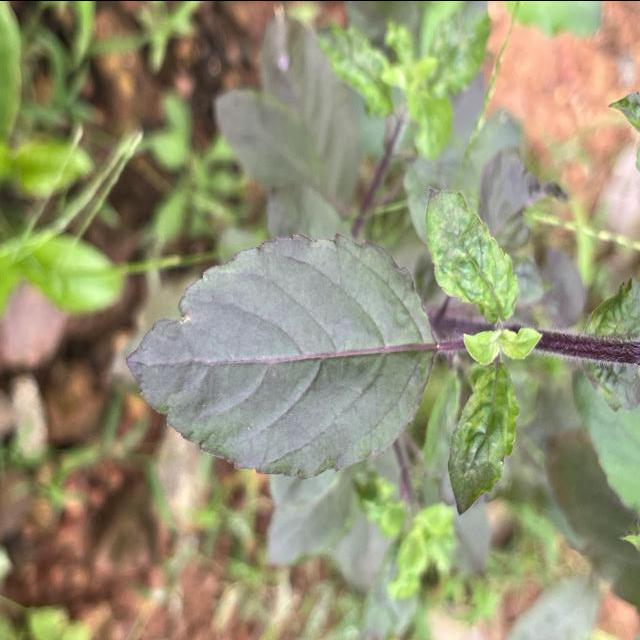Ocimum tenuiflorum: (120, 225, 443, 488)
